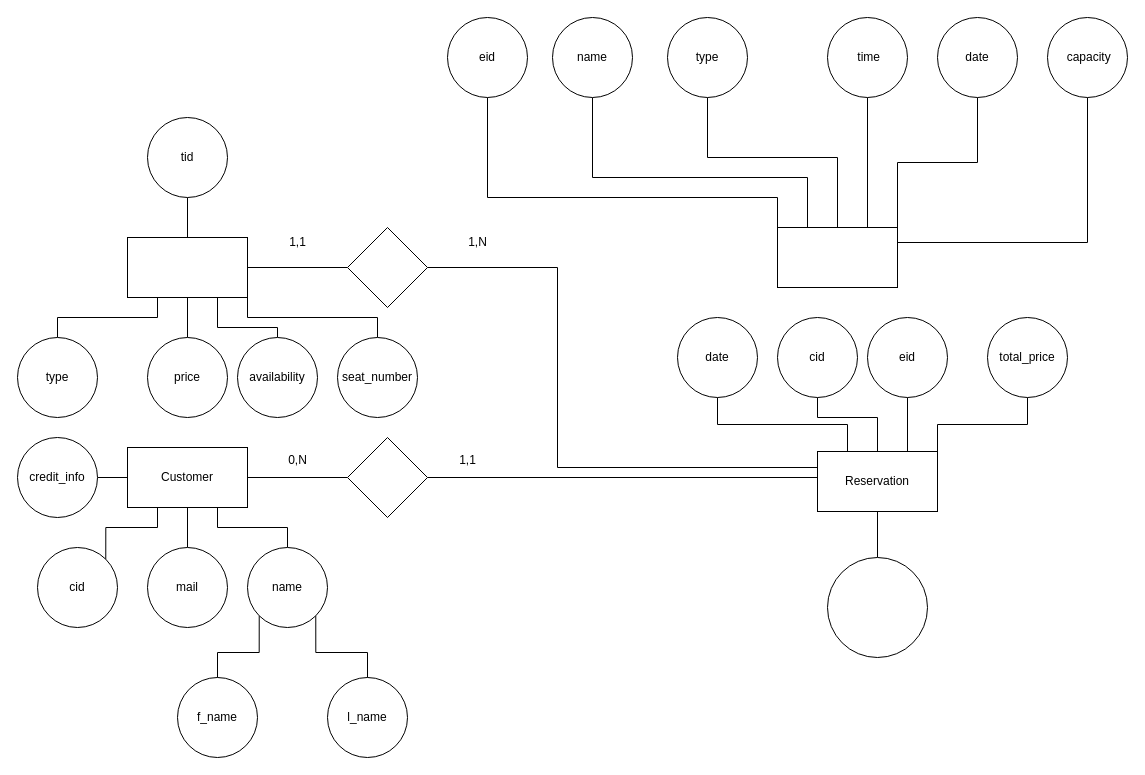
The diagram is 1145 pixels wide and 775 high, and some of its shapes have lost their labels. The box of each missing label's shape, as (x1, y1, x2, y2) in pixels:
Contains: (346, 226, 428, 308)
Event: (776, 226, 898, 288)
Makes: (346, 436, 428, 518)
Ticket: (126, 236, 248, 298)
tickets_number: (826, 556, 928, 658)
